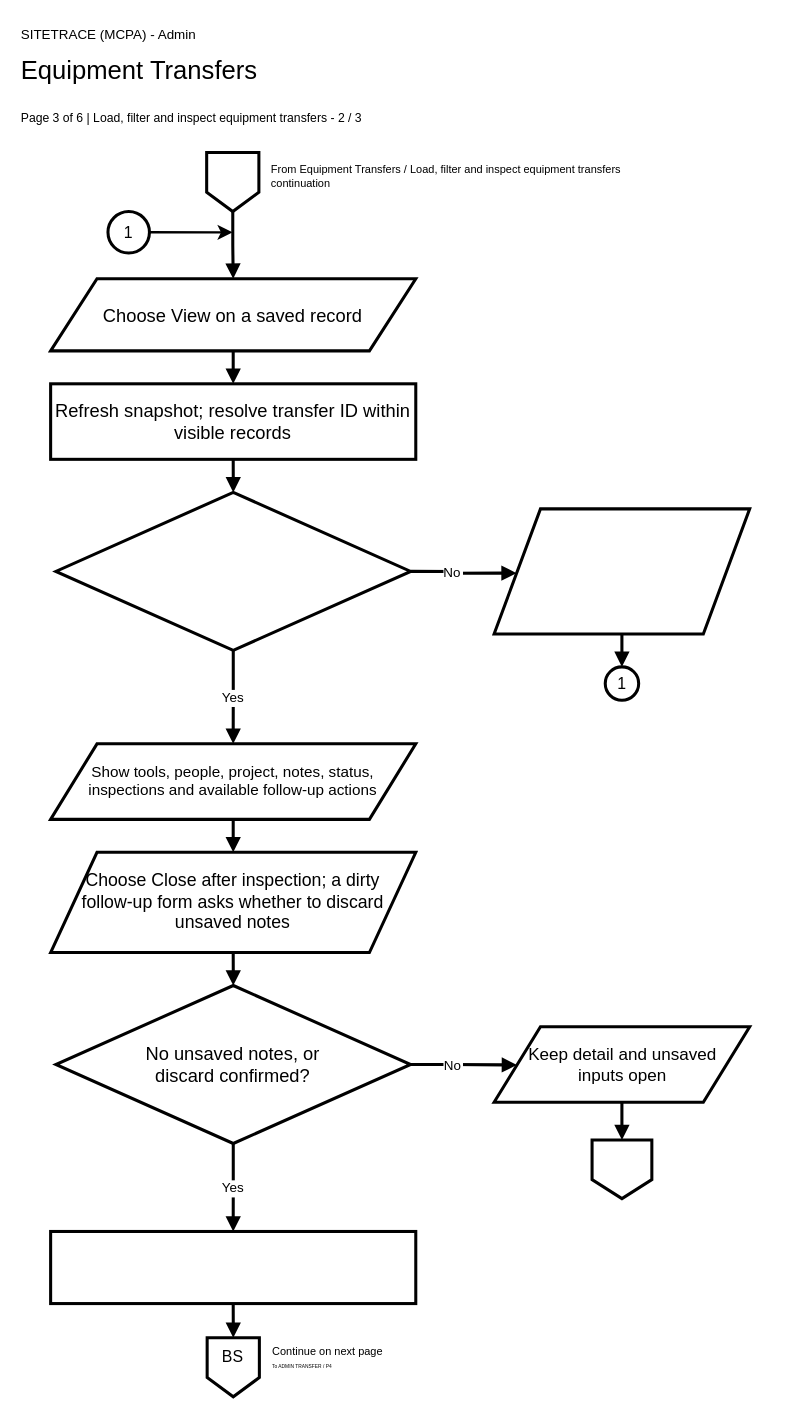
The diagram is 811 pixels wide and 1419 high, and some of its shapes have lost their labels. The box of each missing label's shape, as (x1, y1, x2, y2) in pixels:
BR: (205, 150, 260, 213)
Close detail; restore list navigation/focus: (49, 1229, 417, 1305)
Record still visible to this account?: (54, 490, 412, 651)
Show record unavailable or access removed Refresh list and choose another record: (492, 507, 751, 635)
XX: (590, 1138, 653, 1200)
